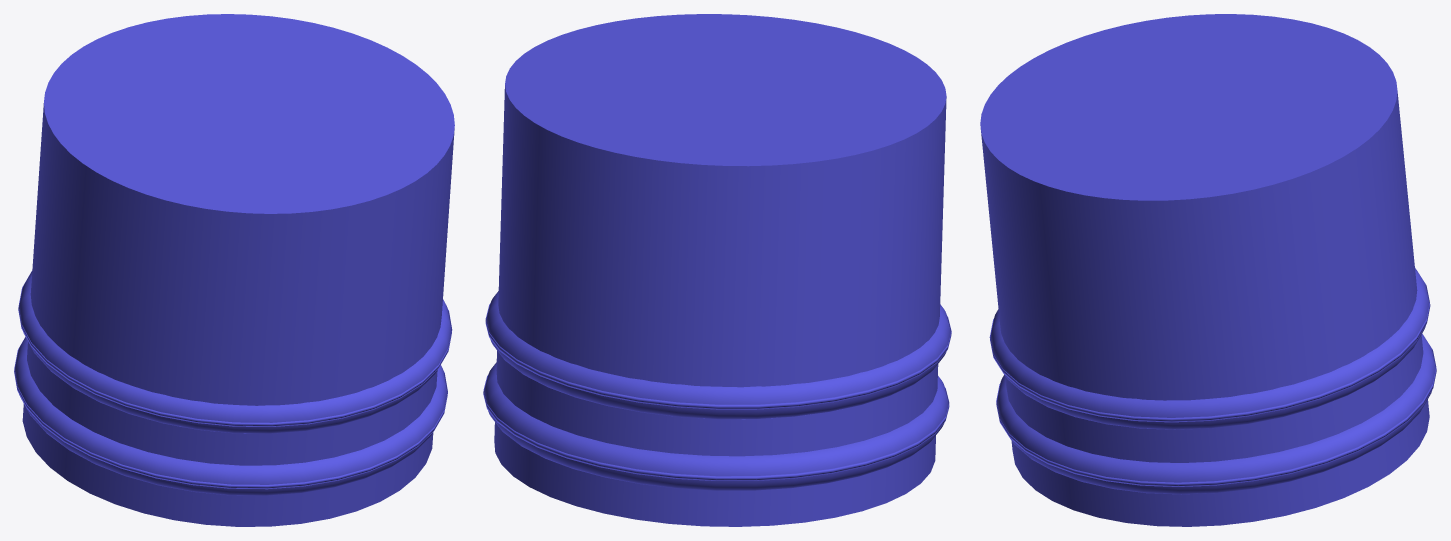
Rendered from bombilla222.obj.
3 views of the same model, side by side, from view 1: azimuth 30°, elevation 25°; view 2: azimuth 150°, elevation 25°; view 3: azimuth 270°, elevation 25° (orthographic). The views are drawn at different scales.
Visible parts, largest first — view 1: Cylinder001, Cylinder004, Cylinder002, Cylinder003, Cylinder006; view 2: Cylinder001, Cylinder004, Cylinder003, Cylinder006, Cylinder002; view 3: Cylinder001, Cylinder004, Cylinder003, Cylinder002, Cylinder006.
Boxes of the visible parts, x1,y1,x2,y2 form: Cylinder001: [30, 14, 454, 405]; Cylinder004: [14, 337, 447, 495]; Cylinder002: [18, 271, 452, 433]; Cylinder003: [27, 342, 437, 465]; Cylinder006: [22, 404, 433, 526]; Cylinder001: [498, 14, 946, 387]; Cylinder004: [483, 362, 949, 490]; Cylinder003: [496, 351, 938, 456]; Cylinder006: [494, 422, 935, 526]; Cylinder002: [485, 291, 951, 419]; Cylinder001: [980, 14, 1417, 400]; Cylinder004: [996, 333, 1436, 494]; Cylinder003: [1005, 335, 1423, 462]; Cylinder002: [989, 268, 1430, 429]; Cylinder006: [1011, 399, 1429, 526].
Size of the model in its own units: 72.45 by 65.49 by 74.59.
